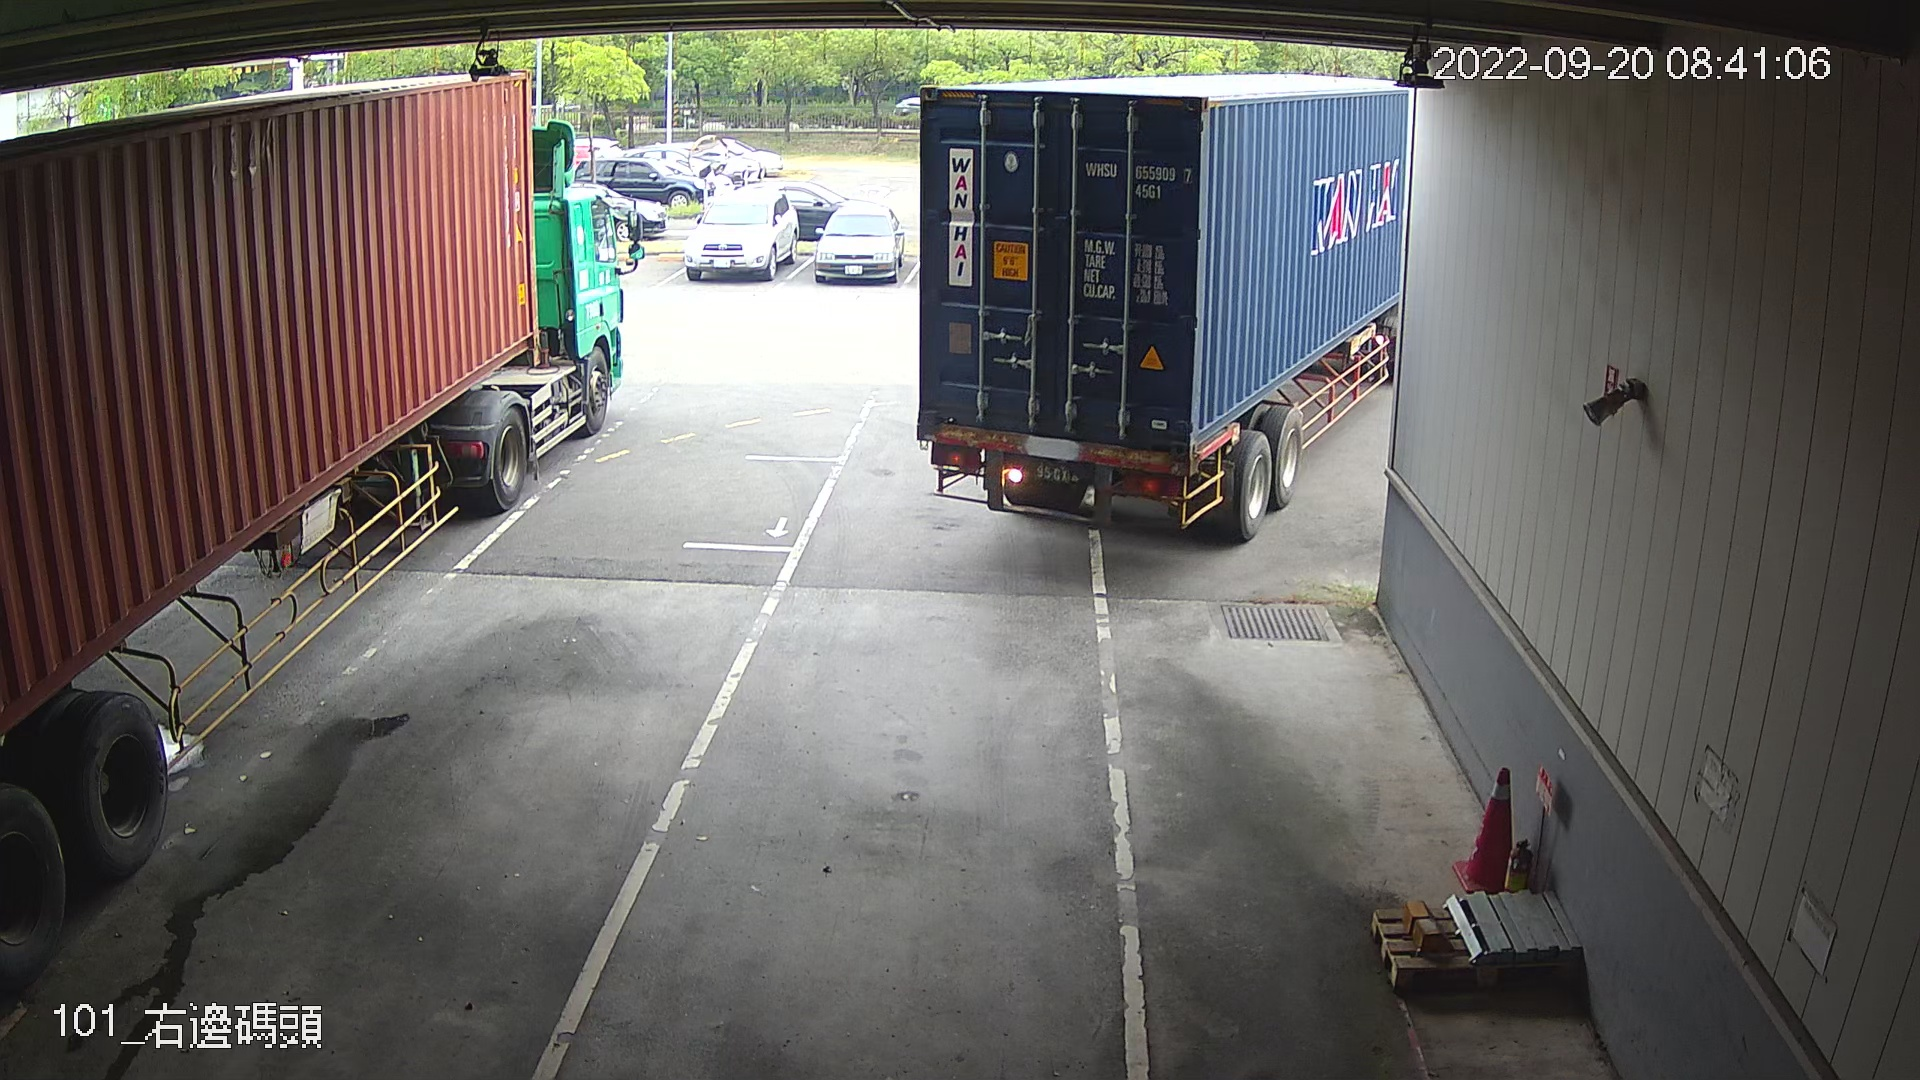container: (1077, 149, 1197, 207)
